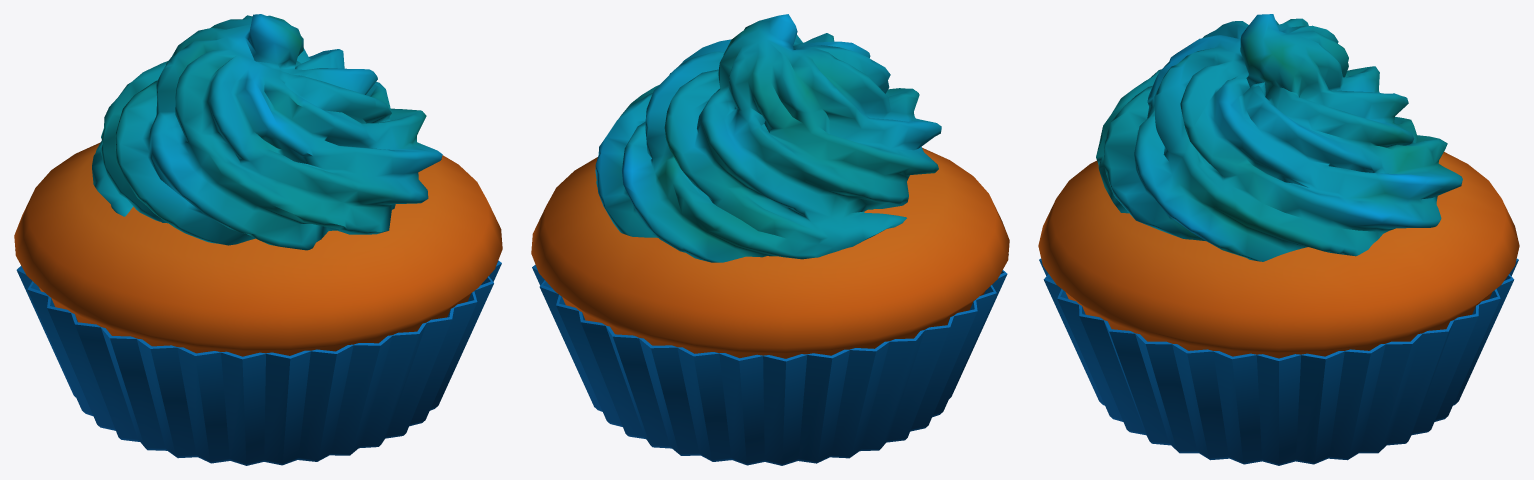
The model's file is Cupcake Tray Sort - Cake 2.fbx.
3 views of the same model, side by side, from view 1: azimuth 30°, elevation 25°; view 2: azimuth 150°, elevation 25°; view 3: azimuth 270°, elevation 25° (orthographic). The views are drawn at different scales.
Parts seen in each view (by area): view 1: 2. icing brown; view 2: 2. icing brown; view 3: 2. icing brown.
Boxes of the visible parts, x1,y1,x2,y2 form: 2. icing brown: (14,14,502,465); 2. icing brown: (531,14,1009,465); 2. icing brown: (1038,14,1519,465).
Size of the model in its own units: 0.1375 by 0.1375 by 0.1181.
